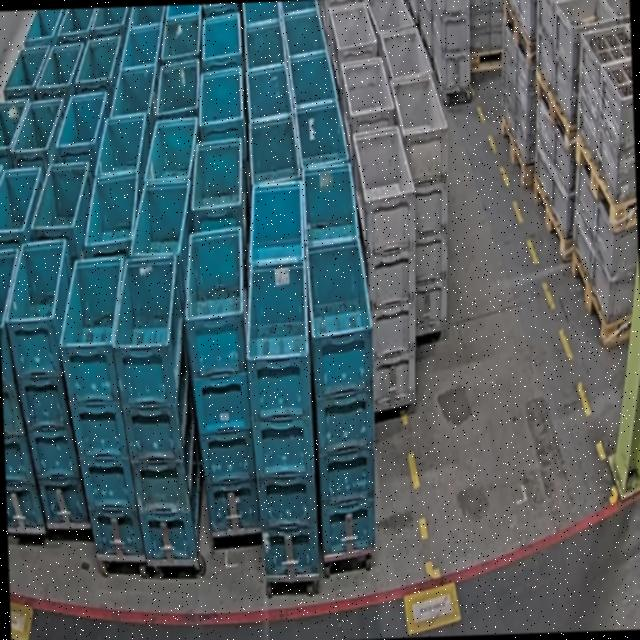4G: (351, 124, 422, 412), (388, 70, 456, 336)
B4: (108, 252, 204, 561), (56, 253, 144, 557), (3, 235, 90, 528), (242, 258, 320, 578), (180, 225, 260, 536), (304, 237, 381, 558), (0, 249, 44, 533)
